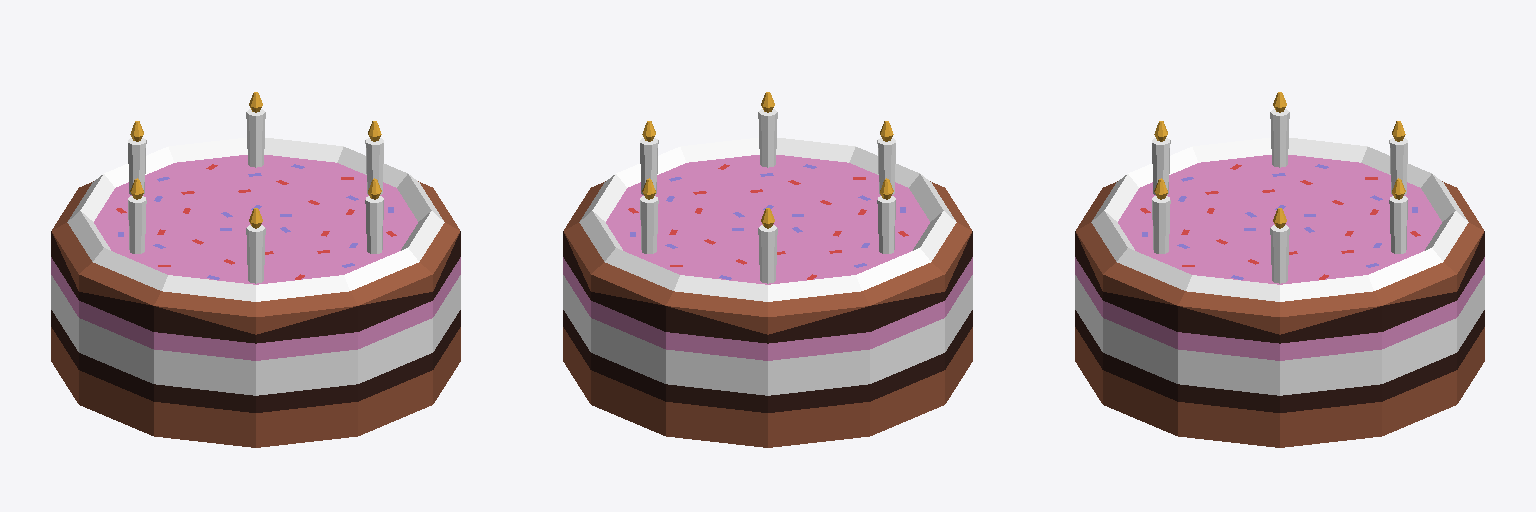
Rendered from cakeBirthday.obj.
3 renders of one model, left to right at view 1: azimuth 30°, elevation 25°; view 2: azimuth 150°, elevation 25°; view 3: azimuth 270°, elevation 25°, orthographic.
Visible parts, largest first — view 1: slice; view 2: slice; view 3: slice.
Part boxes in pixels (x1,y1,x2,y2): slice: (51, 92, 460, 447); slice: (563, 92, 972, 447); slice: (1075, 92, 1484, 447).
Bounding box in the file's own units: 0.6392 × 0.3638 × 0.6392.